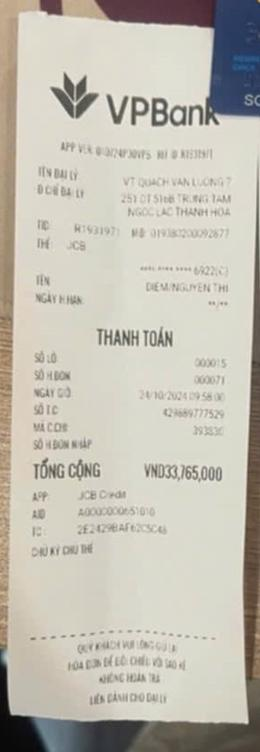receipt: (10, 63, 242, 574)
